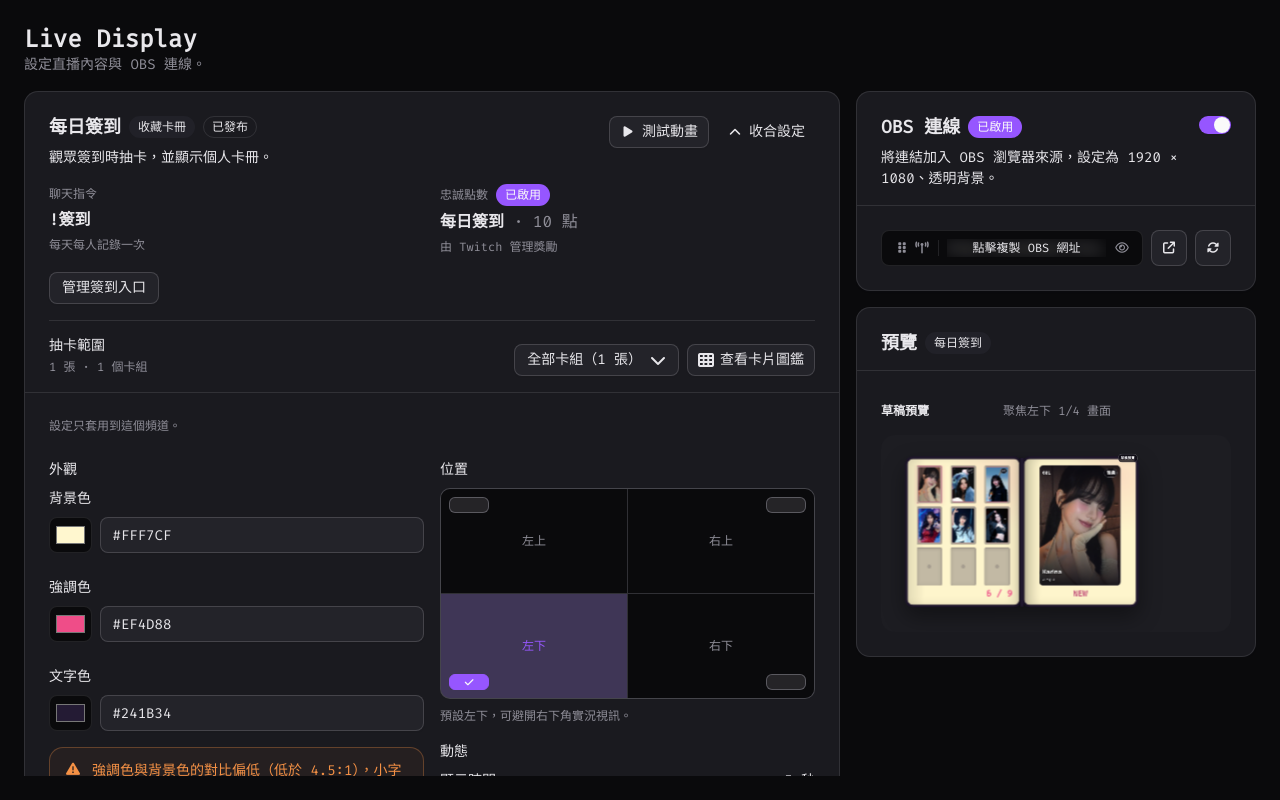
Scenario: CommunityOverlaySettings › renders an isolated development preview without loading tenant settings
Expected: the heading "Live Display" is shown, x1=24 y1=24 x2=206 y2=54
Click the switch named "啟用直播畫面顯示".
click(1215, 125)  # box x1=1199 y1=116 x2=1231 y2=134
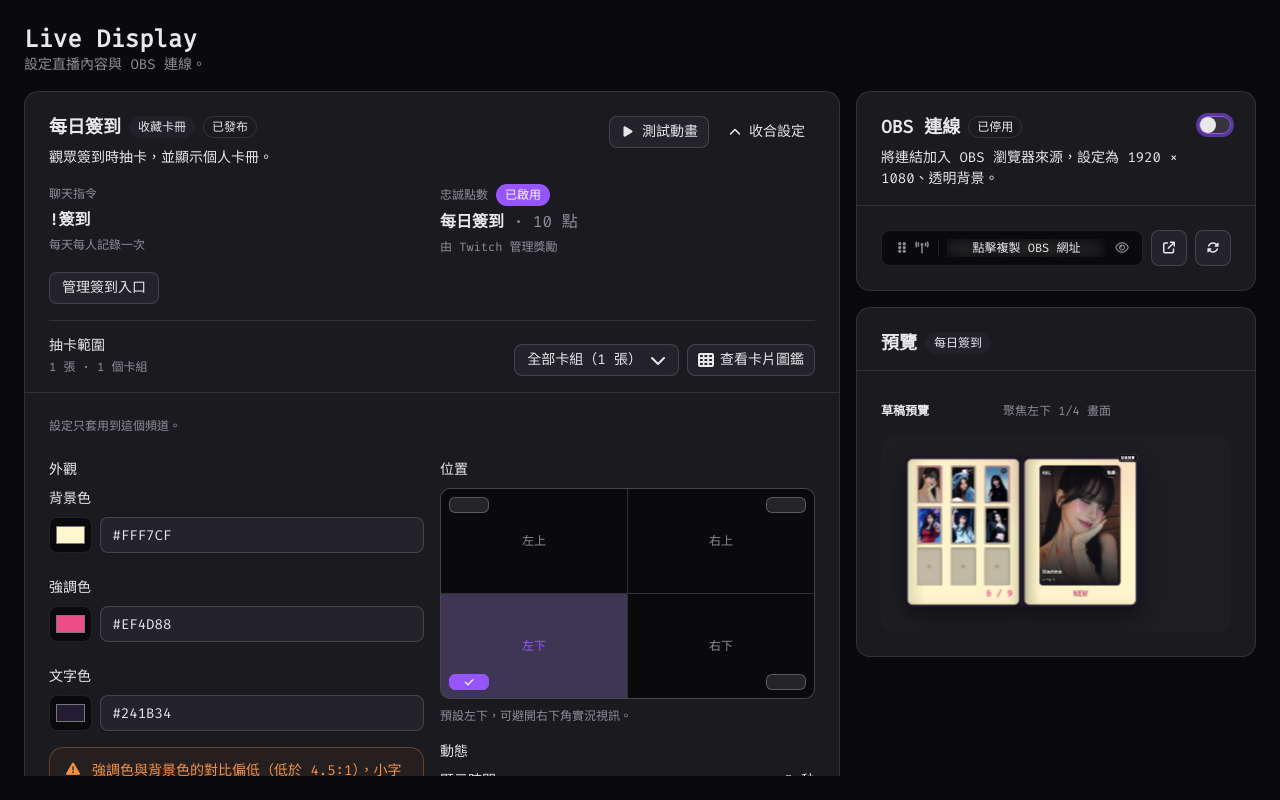
Expected: the text "已停用" is shown, x1=968 y1=116 x2=1022 y2=138
